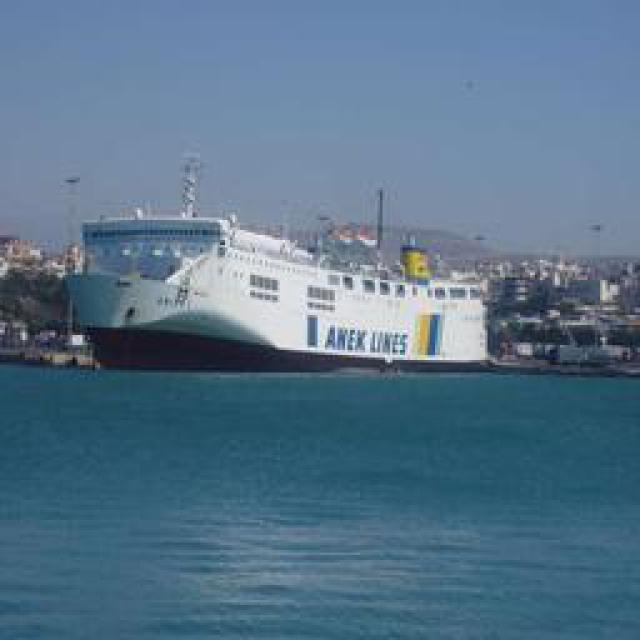Ship: (74, 209, 514, 369)
